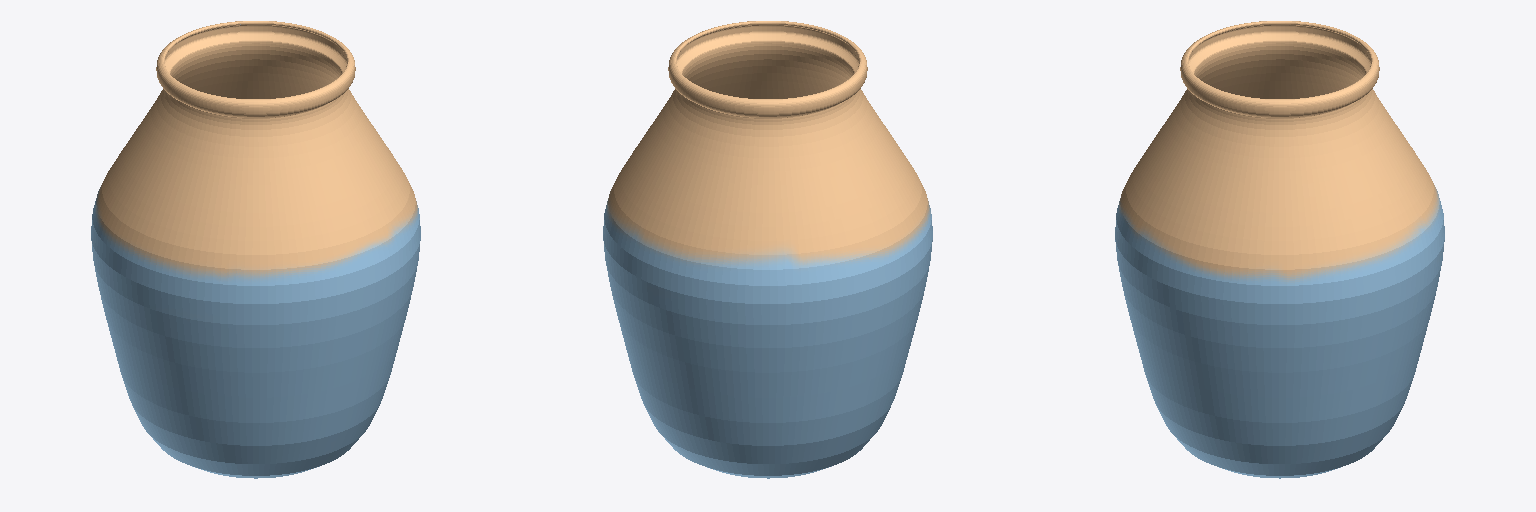
3 renders of one model, left to right at view 1: azimuth 30°, elevation 25°; view 2: azimuth 150°, elevation 25°; view 3: azimuth 270°, elevation 25°, orthographic.
Visible parts, largest first — view 1: Circle.005; view 2: Circle.005; view 3: Circle.005.
Boxes of the visible parts, box(x1,y1,x2,y2) form: Circle.005: box(91, 21, 420, 478); Circle.005: box(603, 21, 932, 478); Circle.005: box(1115, 21, 1444, 478).
Size of the model in its own units: 1.09 by 1.42 by 1.09.
1 materials, 1 textured.